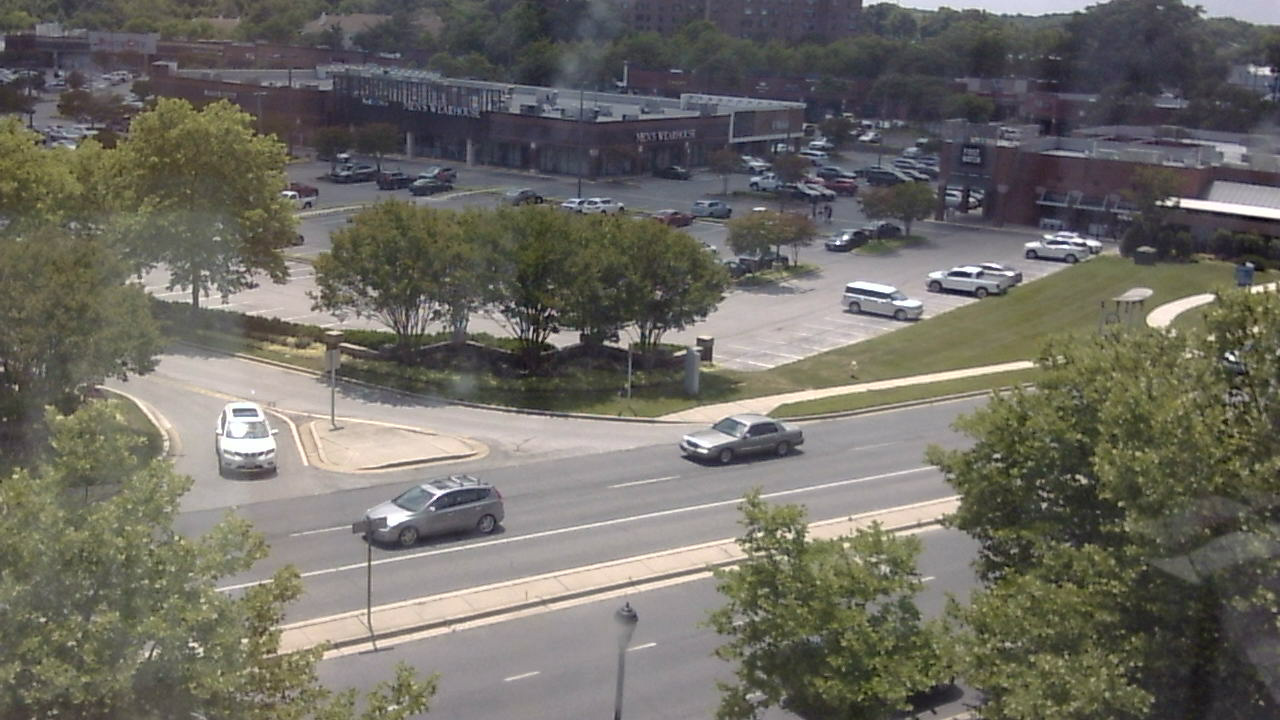Car: (368, 474, 527, 549), (675, 412, 828, 471), (218, 391, 288, 484)
